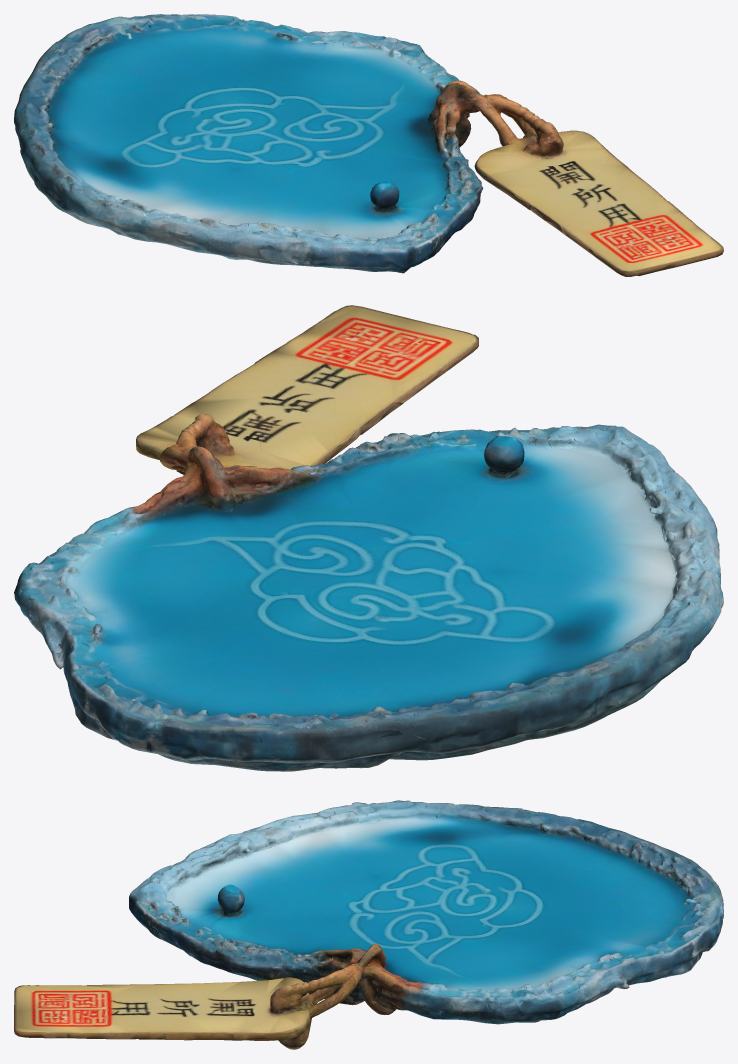
The model's file is Meshy_AI_Azure_Cloud_Talisman_0822073908_texture.fbx.
3 renders of one model, top to bottom at view 1: azimuth 30°, elevation 25°; view 2: azimuth 150°, elevation 25°; view 3: azimuth 270°, elevation 25°, orthographic. The views are drawn at different scales.
Parts seen in each view (by area): view 1: output_unwrapped; view 2: output_unwrapped; view 3: output_unwrapped.
Boxes of the visible parts, <box> form: output_unwrapped: <box>14,14,723,276</box>; output_unwrapped: <box>14,305,723,771</box>; output_unwrapped: <box>14,800,723,1049</box>.
Size of the model in its own units: 146 by 25.89 by 200.
1 material, 1 textured.
